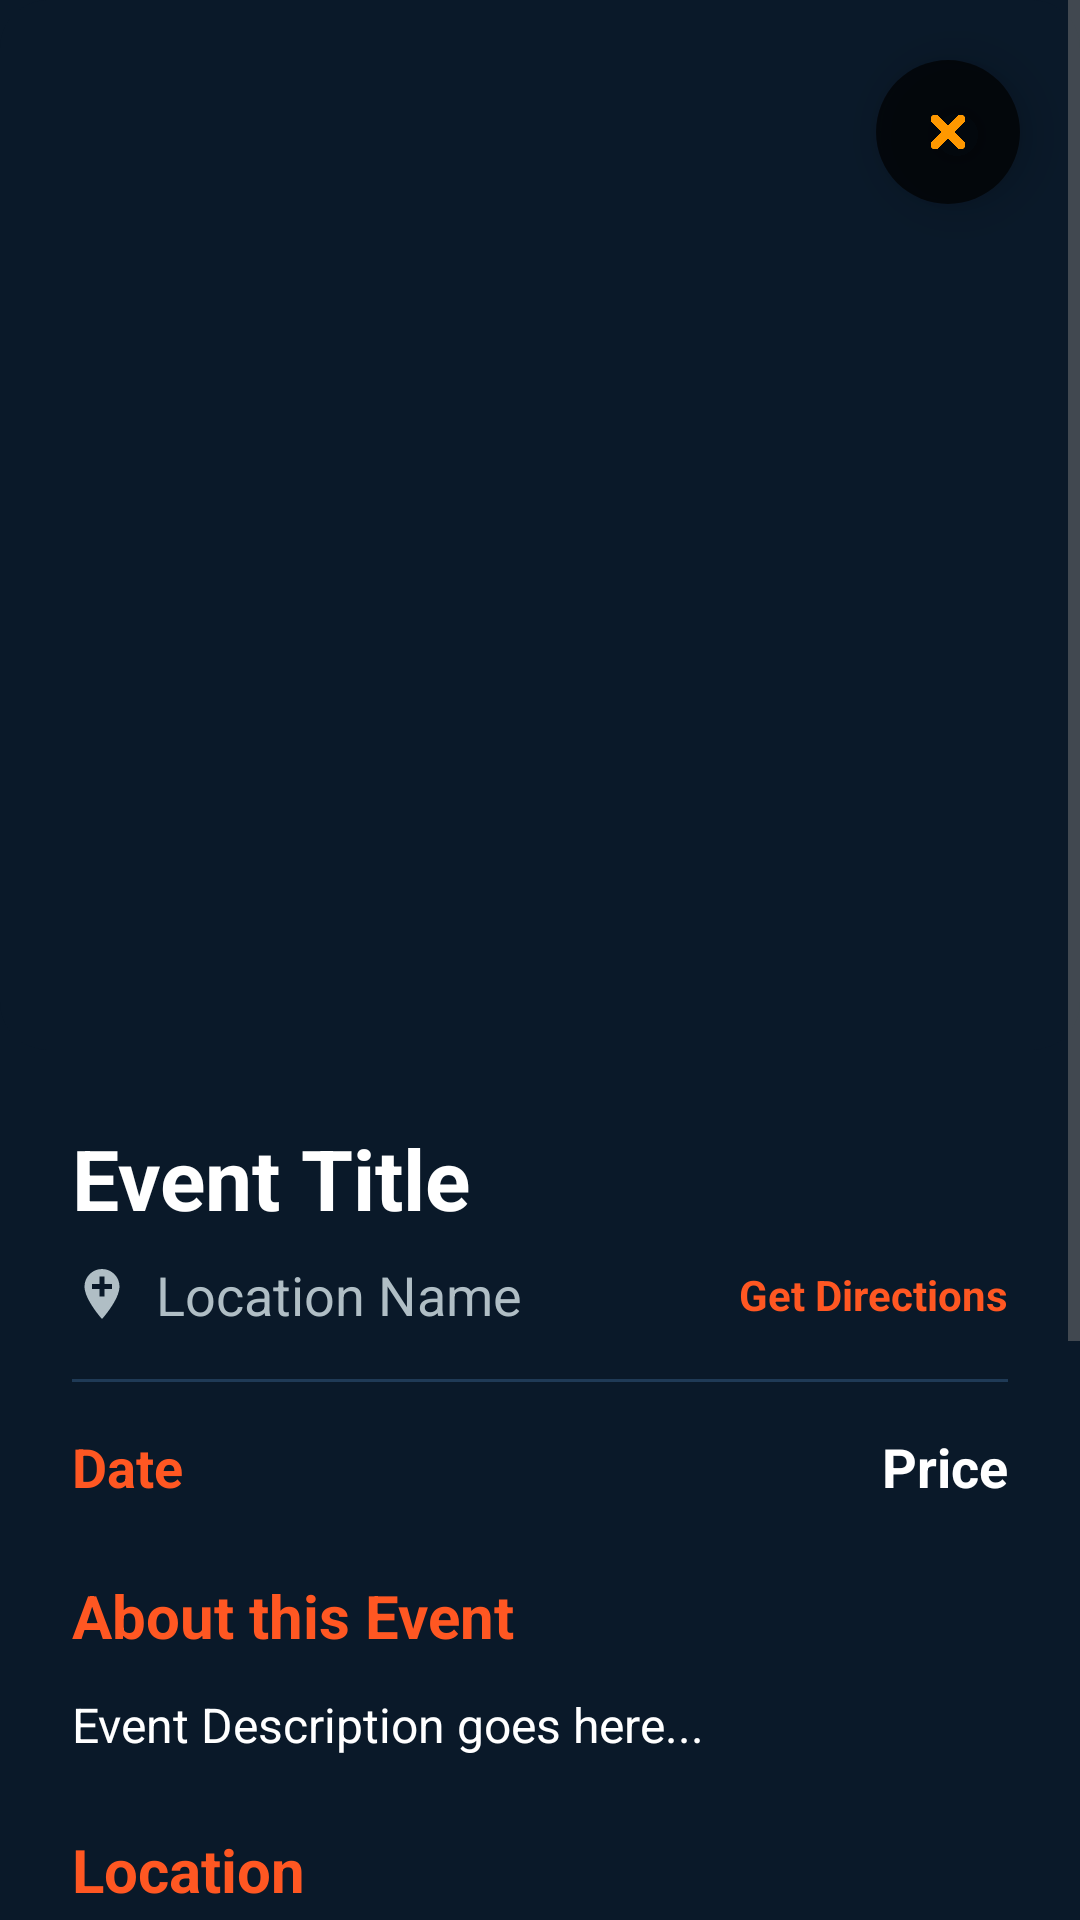

Where icons sit on this 1080w x 1920h app screen, as [x1, y1, x2, y2]:
add location: [84, 1269, 120, 1319]
close: [876, 60, 1020, 204]
